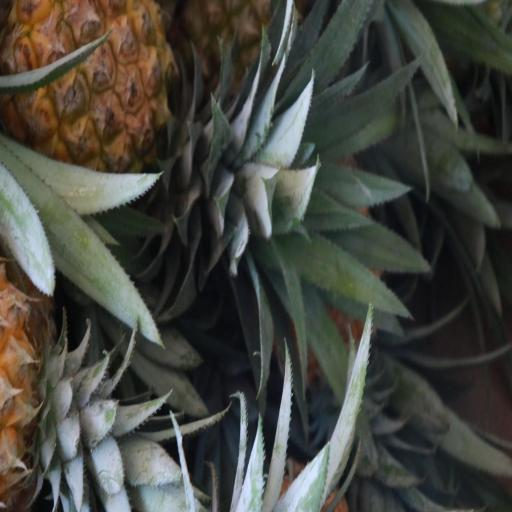Pineapple - v8 v1: (5, 0, 207, 183)
